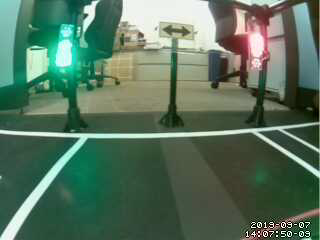Left_Right_sign: (157, 22, 198, 43)
Traffic_light_green: (60, 26, 72, 65)
Traffic_light_red: (249, 24, 267, 69)
